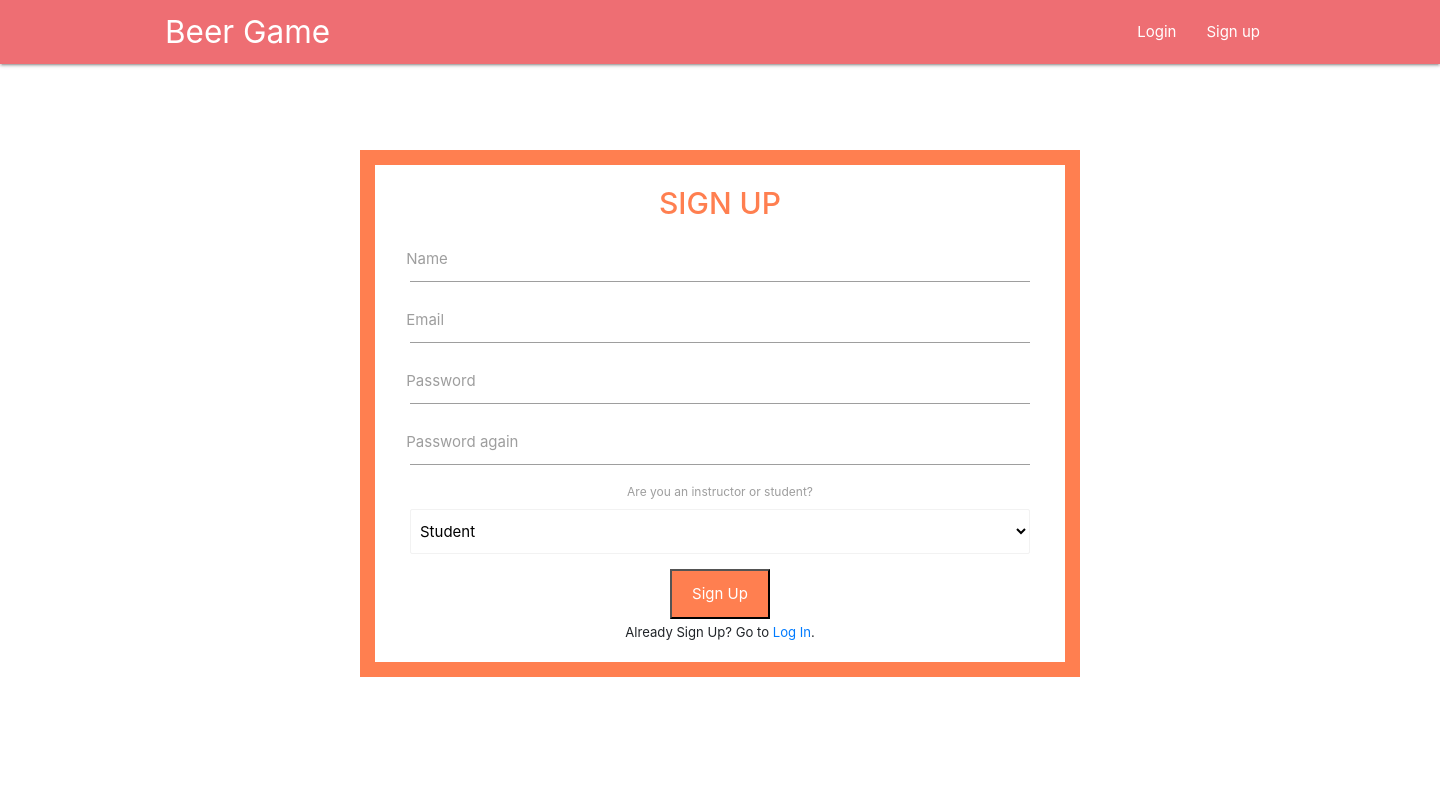
Test case: Fake Authentication › Empty fields
This screenshot has width=1440, height=810.
Click the button with id "userSubmit": [720, 594] box [670,569,770,619]
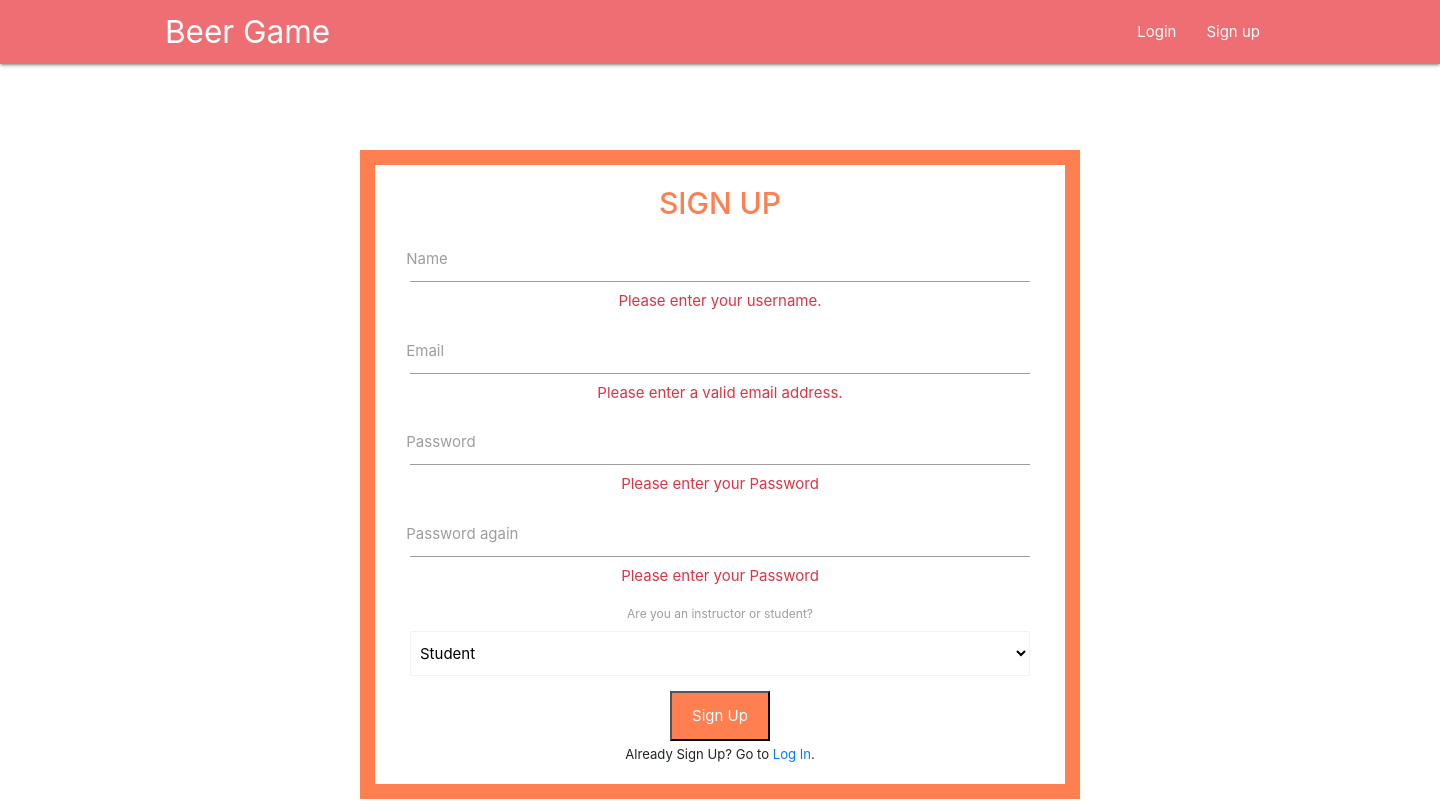
expect the text "Please enter your username." is shown: met, box [618,291,822,310]
